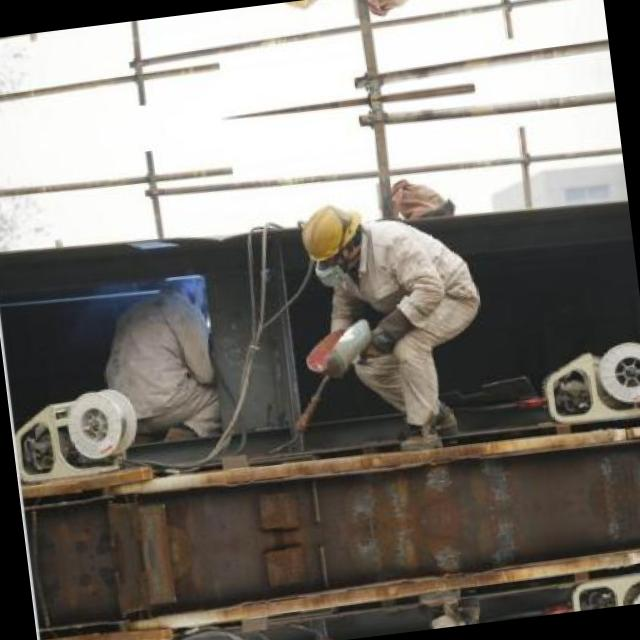helmet: (289, 194, 367, 276), (264, 0, 337, 21)
